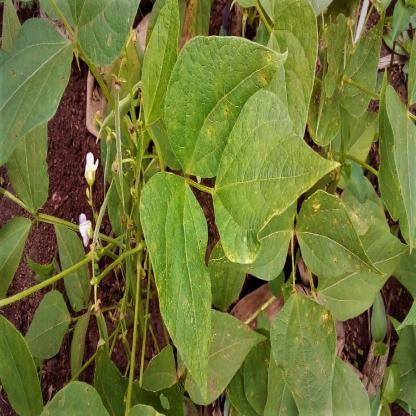Beans_Rust: (214, 89, 337, 260), (165, 39, 279, 176), (140, 183, 210, 397), (272, 286, 338, 414), (300, 190, 380, 280)
